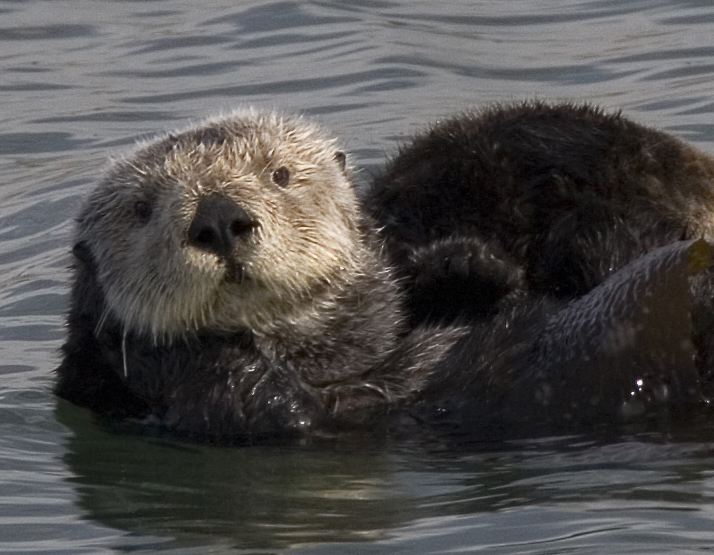otter: (54, 68, 714, 471)
